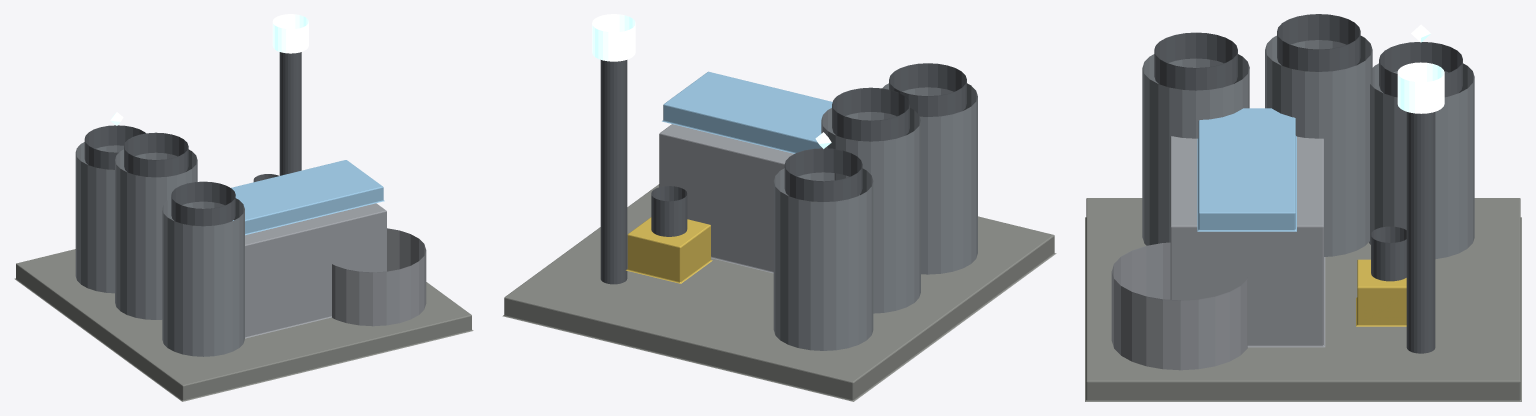
File: refinery.glb
3 renders of one model, left to right at view 1: azimuth 30°, elevation 25°; view 2: azimuth 150°, elevation 25°; view 3: azimuth 270°, elevation 25°, orthographic. The views are drawn at different scales.
Visible parts, largest first — view 1: refinery_Static_Armor, refinery_Static_Concrete, refinery_Static_Steel, refinery_Static_DarkMetal, refinery_Static_FactionPaint, Flare; view 2: refinery_Static_Concrete, refinery_Static_Armor, refinery_Static_DarkMetal, refinery_Static_Steel, refinery_Static_FactionPaint, Pump, Flare, Motor; view 3: refinery_Static_Concrete, refinery_Static_Armor, refinery_Static_Steel, refinery_Static_DarkMetal, refinery_Static_FactionPaint, Pump, Flare, Motor.
Part boxes in pixels (bbox=[...]): refinery_Static_Armor: bbox=[75, 142, 244, 356]; refinery_Static_Concrete: bbox=[14, 249, 473, 401]; refinery_Static_Steel: bbox=[245, 203, 426, 338]; refinery_Static_DarkMetal: bbox=[84, 52, 301, 226]; refinery_Static_FactionPaint: bbox=[231, 160, 384, 235]; Flare: bbox=[272, 14, 308, 53]; refinery_Static_Concrete: bbox=[502, 184, 1056, 401]; refinery_Static_Armor: bbox=[773, 83, 977, 350]; refinery_Static_DarkMetal: bbox=[600, 60, 966, 284]; refinery_Static_Steel: bbox=[659, 124, 793, 273]; refinery_Static_FactionPaint: bbox=[662, 71, 832, 153]; Pump: bbox=[626, 217, 712, 283]; Flare: bbox=[592, 14, 635, 61]; Motor: bbox=[651, 186, 687, 236]; refinery_Static_Concrete: bbox=[1085, 198, 1521, 401]; refinery_Static_Armor: bbox=[1142, 35, 1474, 259]; refinery_Static_Steel: bbox=[1111, 136, 1325, 370]; refinery_Static_DarkMetal: bbox=[1154, 14, 1462, 353]; refinery_Static_FactionPaint: bbox=[1197, 108, 1296, 231]; Pump: bbox=[1356, 259, 1406, 326]; Flare: bbox=[1397, 62, 1444, 113]; Motor: bbox=[1371, 226, 1406, 281].
Bounding box in the file's own units: 4.27 × 3.24 × 4.27.
